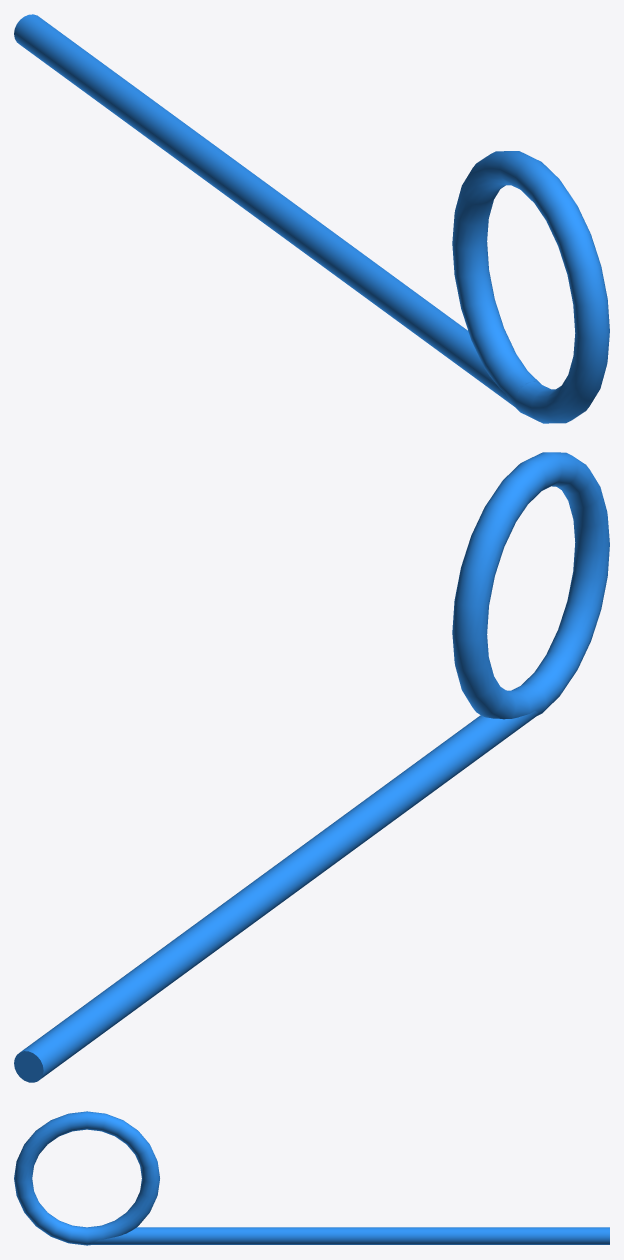
Rendered from Hook_Diff_1_Ghost.fbx.
3 views of the same model, one above another, from view 1: azimuth 30°, elevation 25°; view 2: azimuth 150°, elevation 25°; view 3: azimuth 270°, elevation 25° (orthographic). The views are drawn at different scales.
Visible parts, largest first — view 1: Hook_Diff_1_Ghost, Rod; view 2: Rod, Hook_Diff_1_Ghost; view 3: Rod, Hook_Diff_1_Ghost.
Part boxes in pixels (x1,y1,x2,y2): Hook_Diff_1_Ghost: (452,151,609,423); Rod: (14,14,539,406); Rod: (14,683,542,1082); Hook_Diff_1_Ghost: (452,452,609,719); Rod: (87,1227,609,1244); Hook_Diff_1_Ghost: (14,1111,159,1245).
Bounding box in the file's own units: 0.2569 × 2.05 × 8.38.
